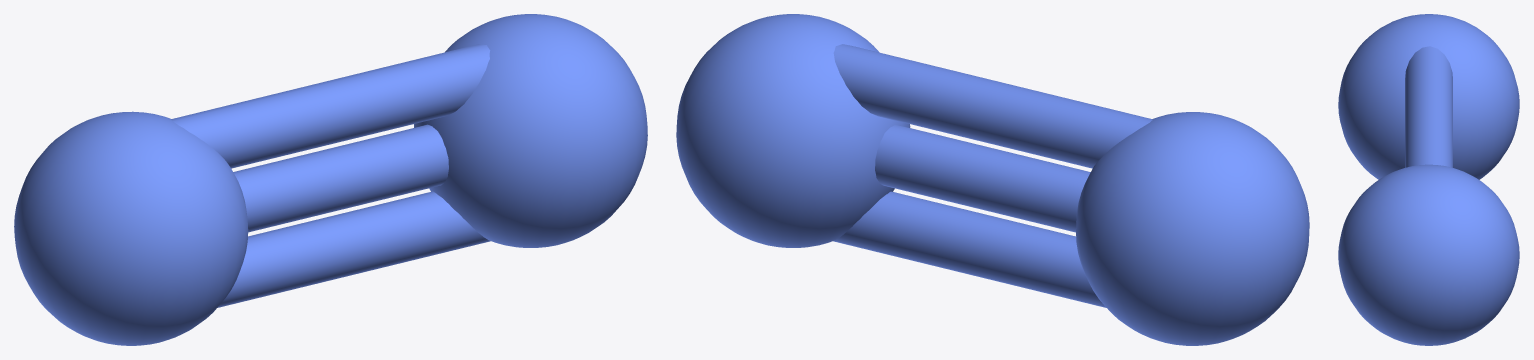
The model's file is UpdatedagainN2-animated.fbx.
The picture shows the model from 3 angles, left to right: view 1: azimuth 30°, elevation 25°; view 2: azimuth 150°, elevation 25°; view 3: azimuth 270°, elevation 25°; orthographic projection. The views are drawn at different scales.
Parts seen in each view (by area): view 1: Nitrogen_ball.002, Nitrogen_ball.001, Nitrogen_ball.003; view 2: Nitrogen_ball.002, Nitrogen_ball.001, Nitrogen_ball.003; view 3: Nitrogen_ball.003, Nitrogen_ball.001, Nitrogen_ball.002.
Boxes of the visible parts, bbox=[...] form: Nitrogen_ball.002: bbox=[171, 44, 490, 307]; Nitrogen_ball.001: bbox=[14, 111, 248, 345]; Nitrogen_ball.003: bbox=[414, 14, 647, 247]; Nitrogen_ball.002: bbox=[833, 44, 1152, 307]; Nitrogen_ball.001: bbox=[1076, 112, 1309, 345]; Nitrogen_ball.003: bbox=[676, 14, 910, 247]; Nitrogen_ball.003: bbox=[1338, 164, 1519, 345]; Nitrogen_ball.001: bbox=[1338, 14, 1519, 179]; Nitrogen_ball.002: bbox=[1405, 46, 1452, 167].
Bounding box in the file's own units: 223 × 75.13 × 75.03.
